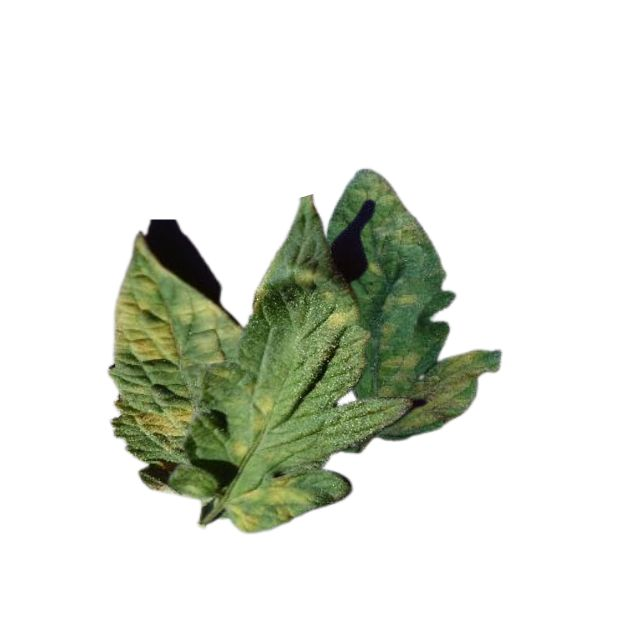Leaf_Mold: (109, 244, 243, 368), (377, 346, 484, 440), (228, 474, 316, 534), (357, 176, 430, 247), (134, 399, 196, 437), (248, 387, 275, 434), (289, 265, 321, 295), (225, 432, 253, 466), (316, 307, 359, 328), (382, 291, 418, 313), (364, 259, 381, 277)
